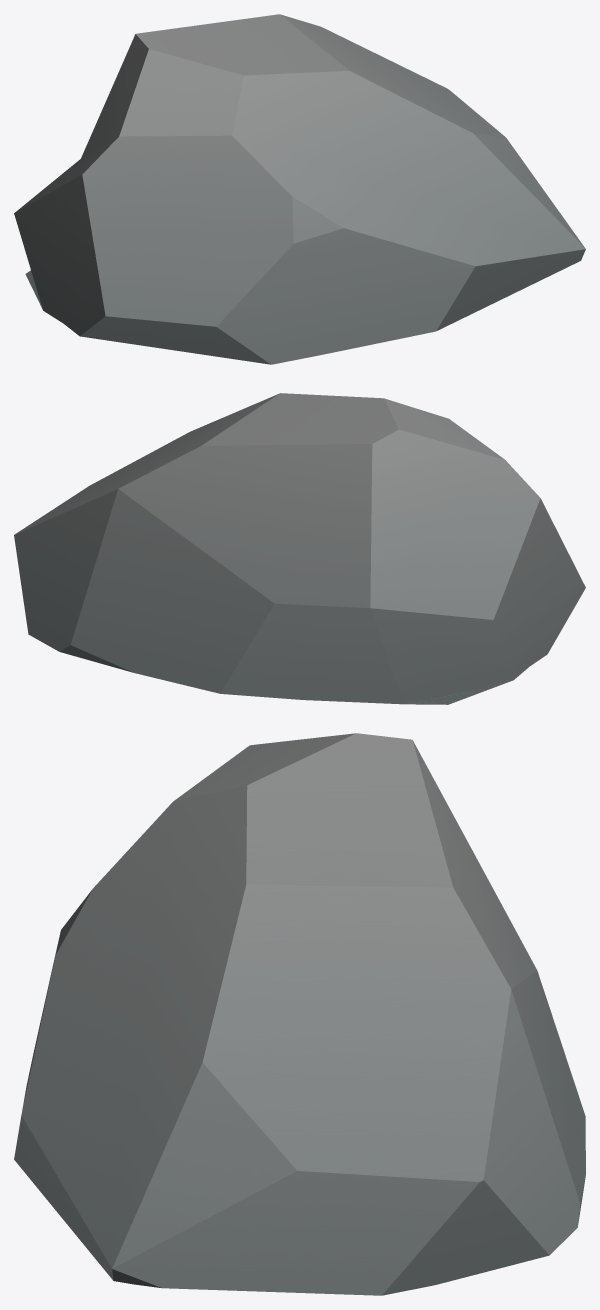
Rendered from Boulder.obj.
3 views of the same model, one above another, from view 1: azimuth 30°, elevation 25°; view 2: azimuth 150°, elevation 25°; view 3: azimuth 270°, elevation 25° (orthographic). The views are drawn at different scales.
Visible parts, largest first — view 1: Rock_05_Cube.001; view 2: Rock_05_Cube.001; view 3: Rock_05_Cube.001.
Boxes of the visible parts, x1=… form: Rock_05_Cube.001: x1=14, y1=14, x2=585, y2=364; Rock_05_Cube.001: x1=14, y1=393, x2=585, y2=704; Rock_05_Cube.001: x1=14, y1=733, x2=585, y2=1295.
Bounding box in the file's own units: 2.18 × 0.9989 × 1.63.
